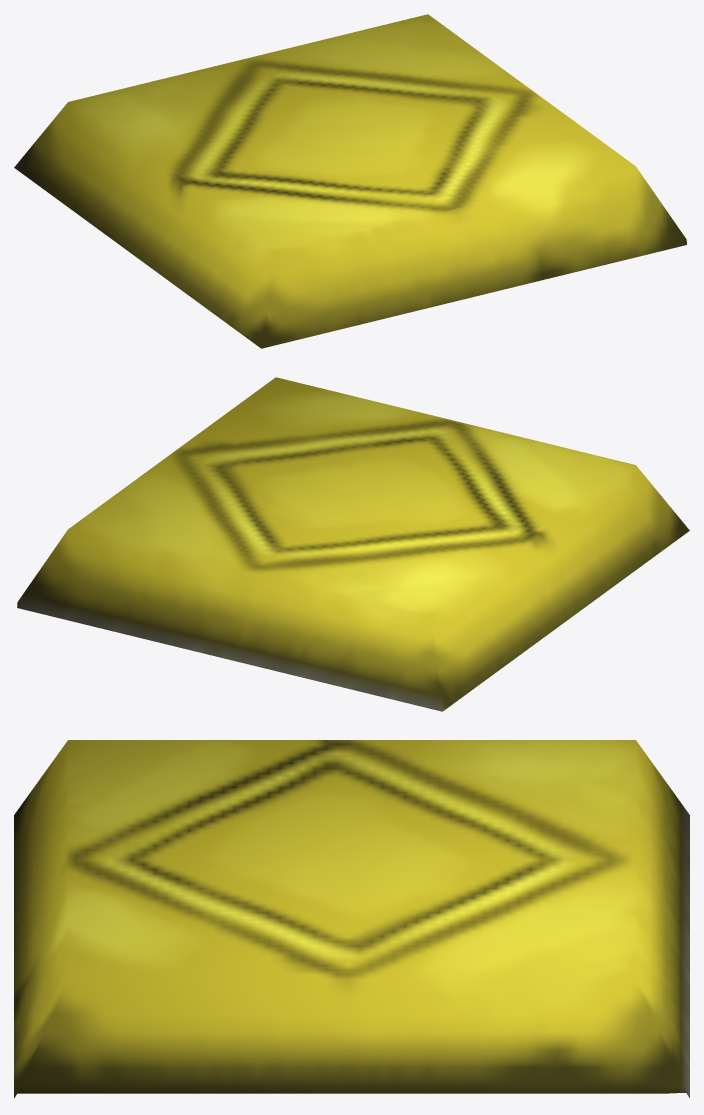
The model's file is 1x1gold1.FBX.
The picture shows the model from 3 angles, top to bottom: view 1: azimuth 30°, elevation 25°; view 2: azimuth 150°, elevation 25°; view 3: azimuth 270°, elevation 25°; orthographic projection. The views are drawn at different scales.
Visible parts, largest first — view 1: Object028; view 2: Object028; view 3: Object028.
Part boxes in pixels (x1=…): Object028: x1=14, y1=14, x2=686, y2=348; Object028: x1=17, y1=377, x2=689, y2=711; Object028: x1=14, y1=740, x2=689, y2=1098.
Bounding box in the file's own units: 6.25 × 1 × 6.25.
